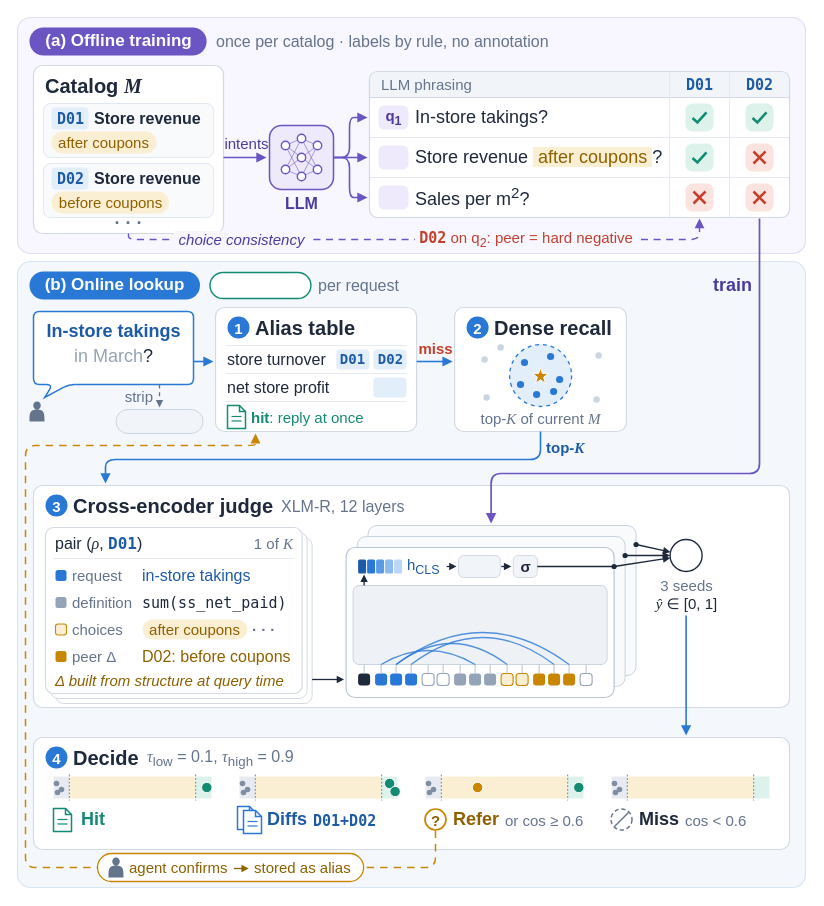
This 824x906 diagram has some shape labels left out. Here are the shapes that lost their labels. From the top down, the centre of each, then its label:
At (x=393, y=157): "q 2".
At (x=393, y=197): "q 3".
At (x=260, y=285): "0 LLM calls".
At (x=389, y=387): "D07".
At (x=159, y=421): "p = March".
At (x=479, y=566): "MLP".
At (x=685, y=555): "avg".
At (x=479, y=624): "Transformer × 12".
